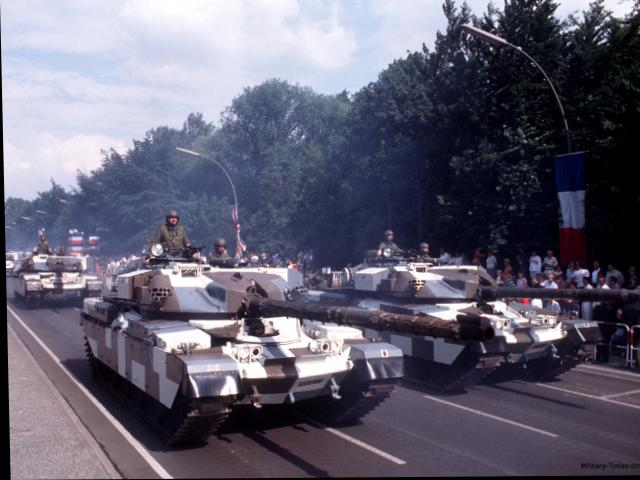other: (147, 196, 191, 264), (407, 232, 442, 269), (378, 218, 401, 270), (27, 216, 49, 254), (209, 229, 228, 267)
tank: (78, 210, 402, 432), (312, 262, 591, 385), (16, 224, 99, 305)
